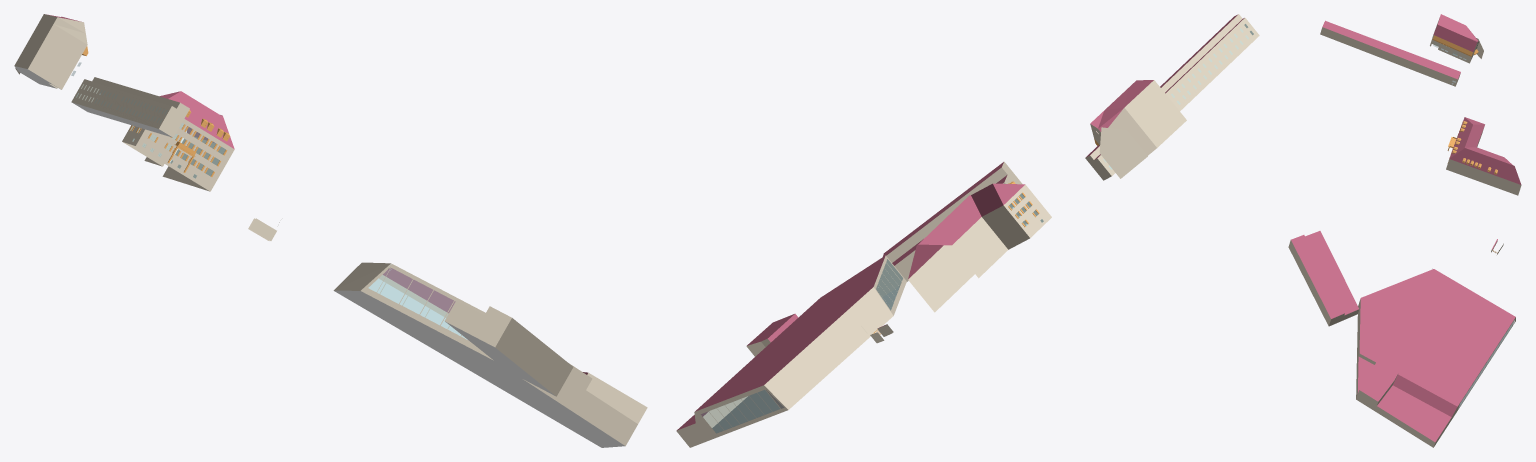
3 renders of one model, left to right at view 1: azimuth 30°, elevation 25°; view 2: azimuth 150°, elevation 25°; view 3: azimuth 270°, elevation 25°, orthographic. The views are drawn at different scales.
Parts seen in each view (by area): view 1: mesh; view 2: mesh; view 3: mesh.
Boxes of the visible parts, left/top/right/bottom form: mesh: left=14, top=14, right=647, bottom=447; mesh: left=676, top=14, right=1259, bottom=447; mesh: left=1288, top=14, right=1521, bottom=447.
Bounding box in the file's own units: 173 × 158 × 113.
